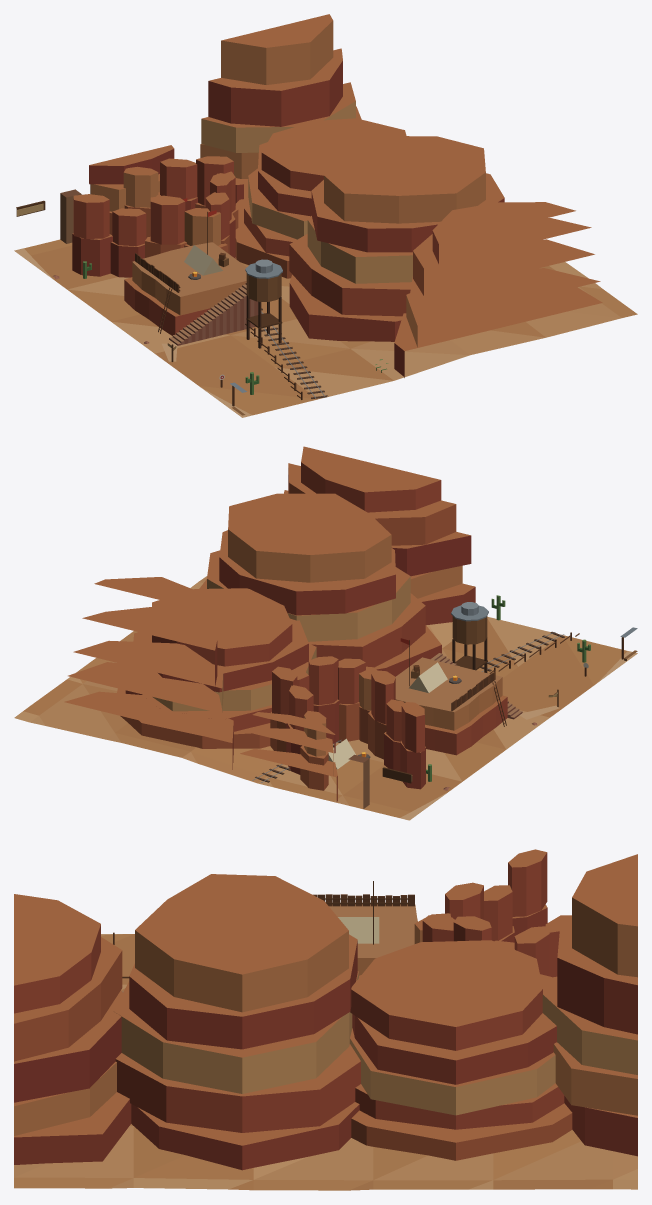
3 renders of one model, top to bottom at view 1: azimuth 30°, elevation 25°; view 2: azimuth 150°, elevation 25°; view 3: azimuth 270°, elevation 25°, orthographic. The views are drawn at different scales.
Parts seen in each view (by area): view 1: baked; view 2: baked; view 3: baked.
Part boxes in pixels (<box>): baked: <box>14,14,637,417</box>; baked: <box>14,446,637,820</box>; baked: <box>14,849,637,1190</box>.
Size of the model in its own units: 62.5 by 24.12 by 62.5.
